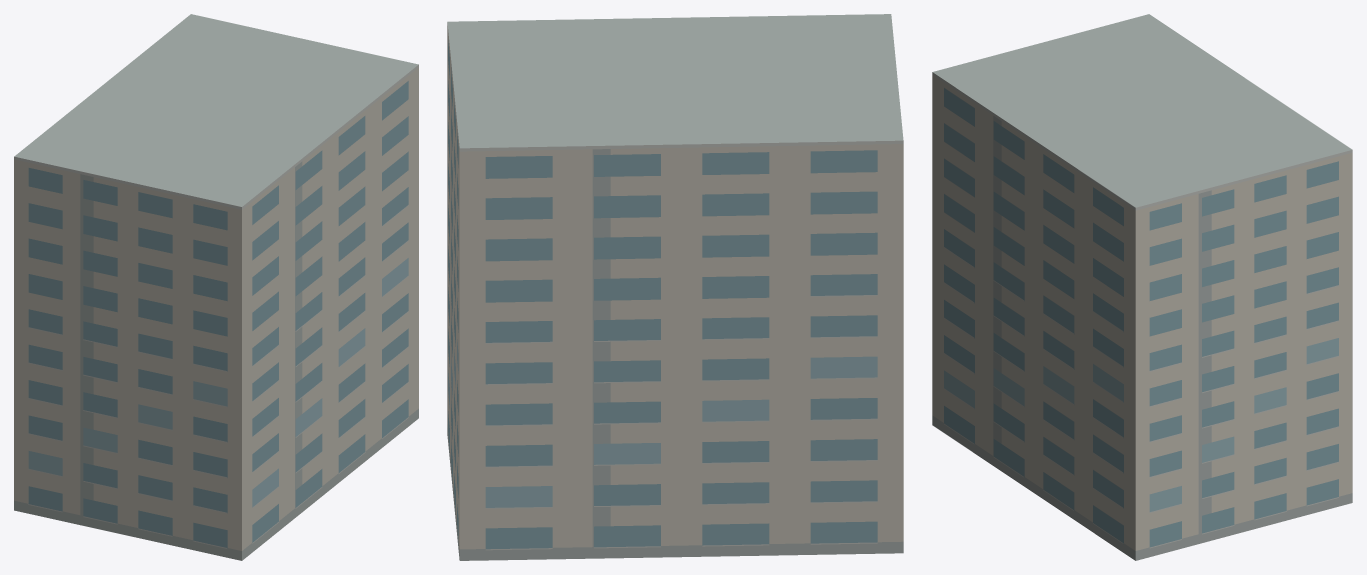
File: residential-a607e5b1-681b-4650-8d64-eb70de188f18.glb
The picture shows the model from 3 angles, left to right: view 1: azimuth 30°, elevation 25°; view 2: azimuth 150°, elevation 25°; view 3: azimuth 270°, elevation 25°; orthographic projection. The views are drawn at different scales.
Parts seen in each view (by area): view 1: residential-a607e5b1-681b-4650-8d64-eb70de188f18.tmp; view 2: residential-a607e5b1-681b-4650-8d64-eb70de188f18.tmp; view 3: residential-a607e5b1-681b-4650-8d64-eb70de188f18.tmp.
Boxes of the visible parts, x1,y1,x2,y2 form: residential-a607e5b1-681b-4650-8d64-eb70de188f18.tmp: [14, 14, 418, 560]; residential-a607e5b1-681b-4650-8d64-eb70de188f18.tmp: [447, 14, 903, 560]; residential-a607e5b1-681b-4650-8d64-eb70de188f18.tmp: [932, 14, 1352, 560].
Bounding box in the file's own units: 35.9 × 30.5 × 32.91.
